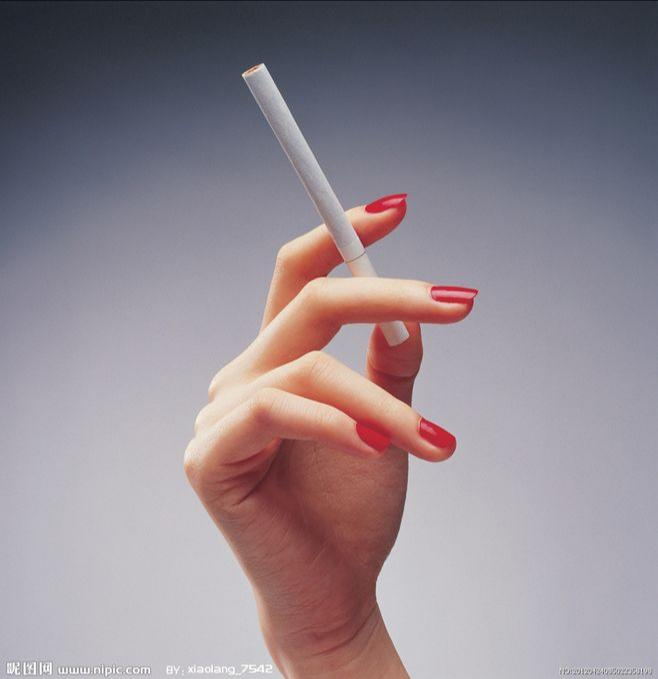Cigarette: (242, 59, 410, 347)
